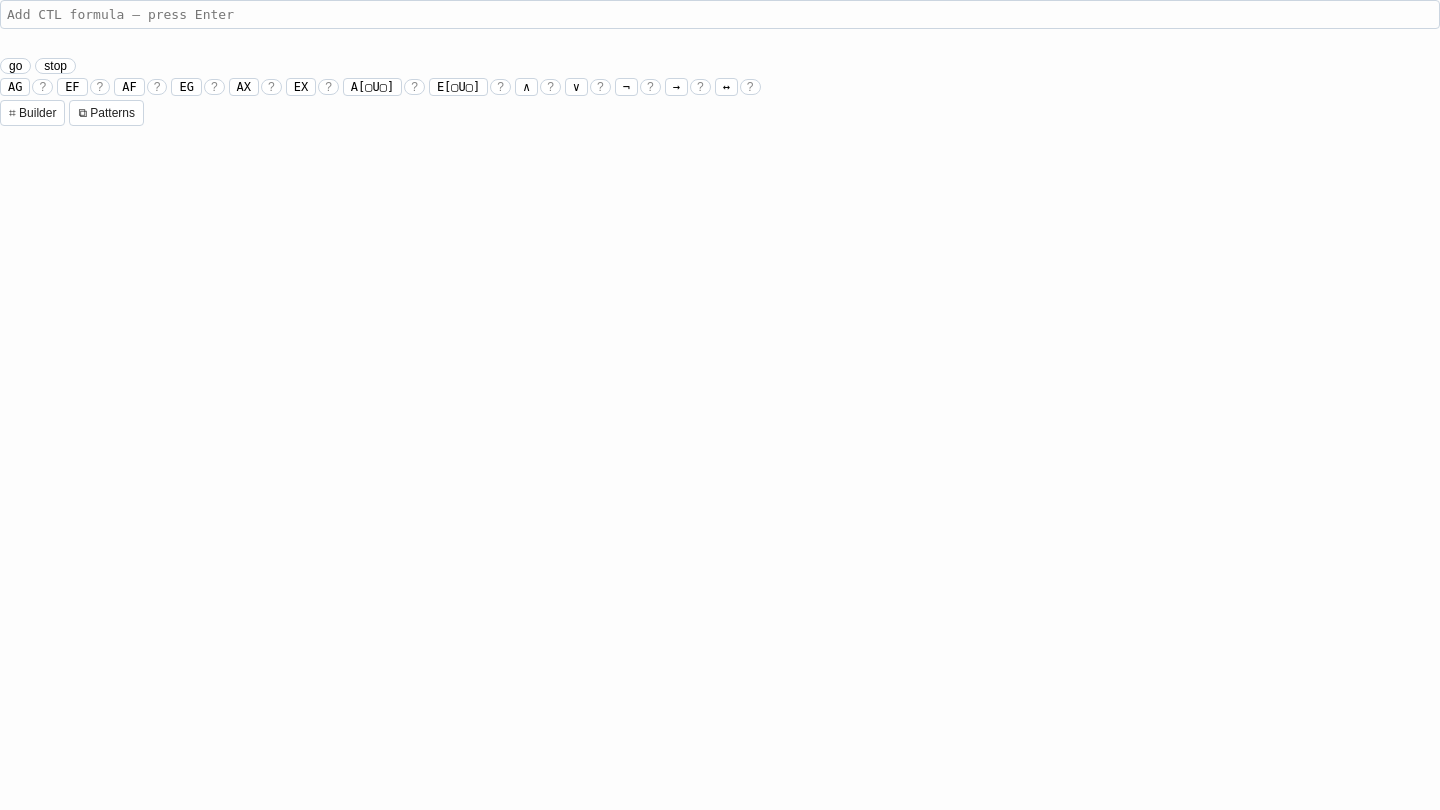
Test: PatternPicker in the composer › slot chips fill slots from model props and the preview updates
Click the button "⧉ Patterns".
click(107, 113)  # box [70,100,144,126]
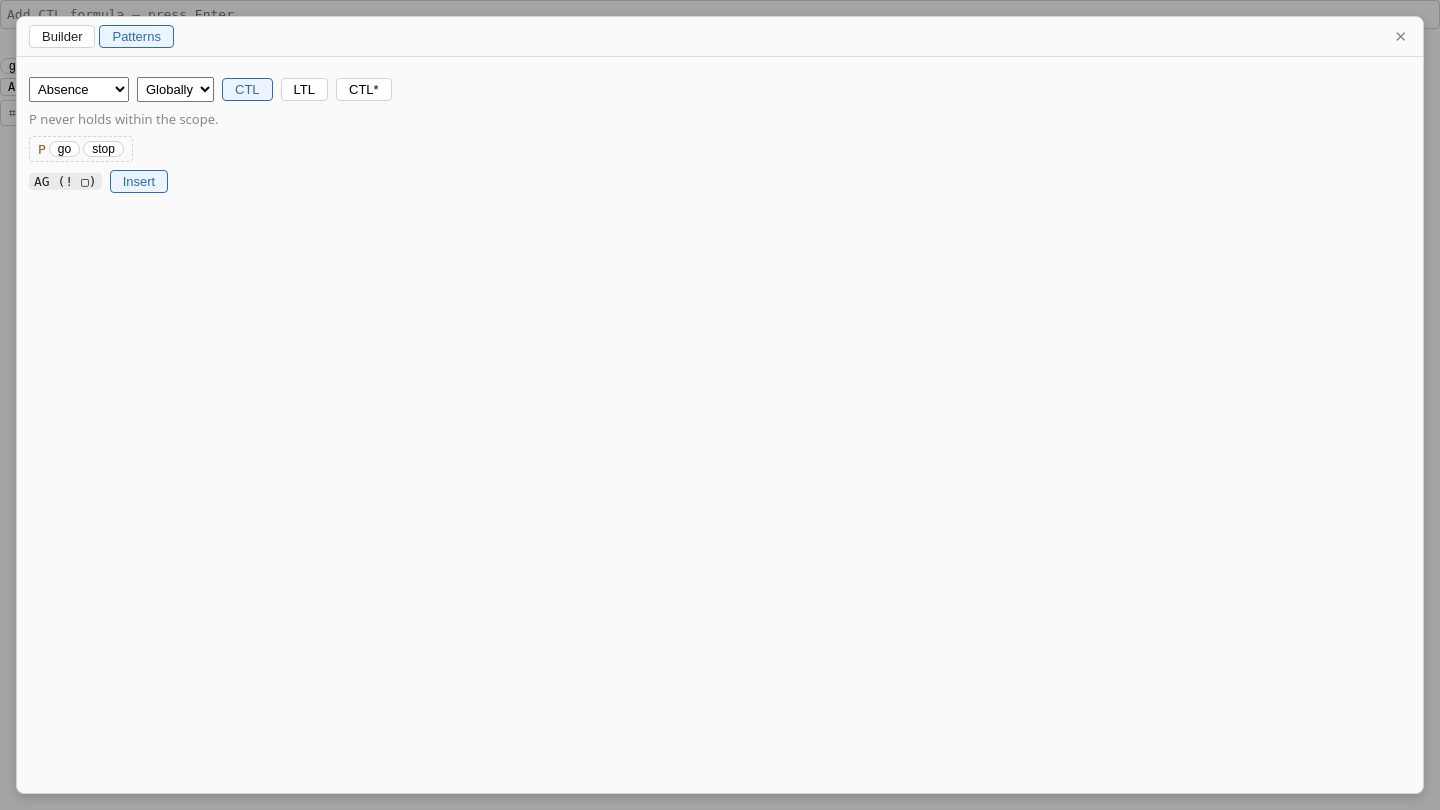
Select "Response" in the dropdown named "Pattern" at {"x": 79, "y": 90}, box [29,77,129,102]
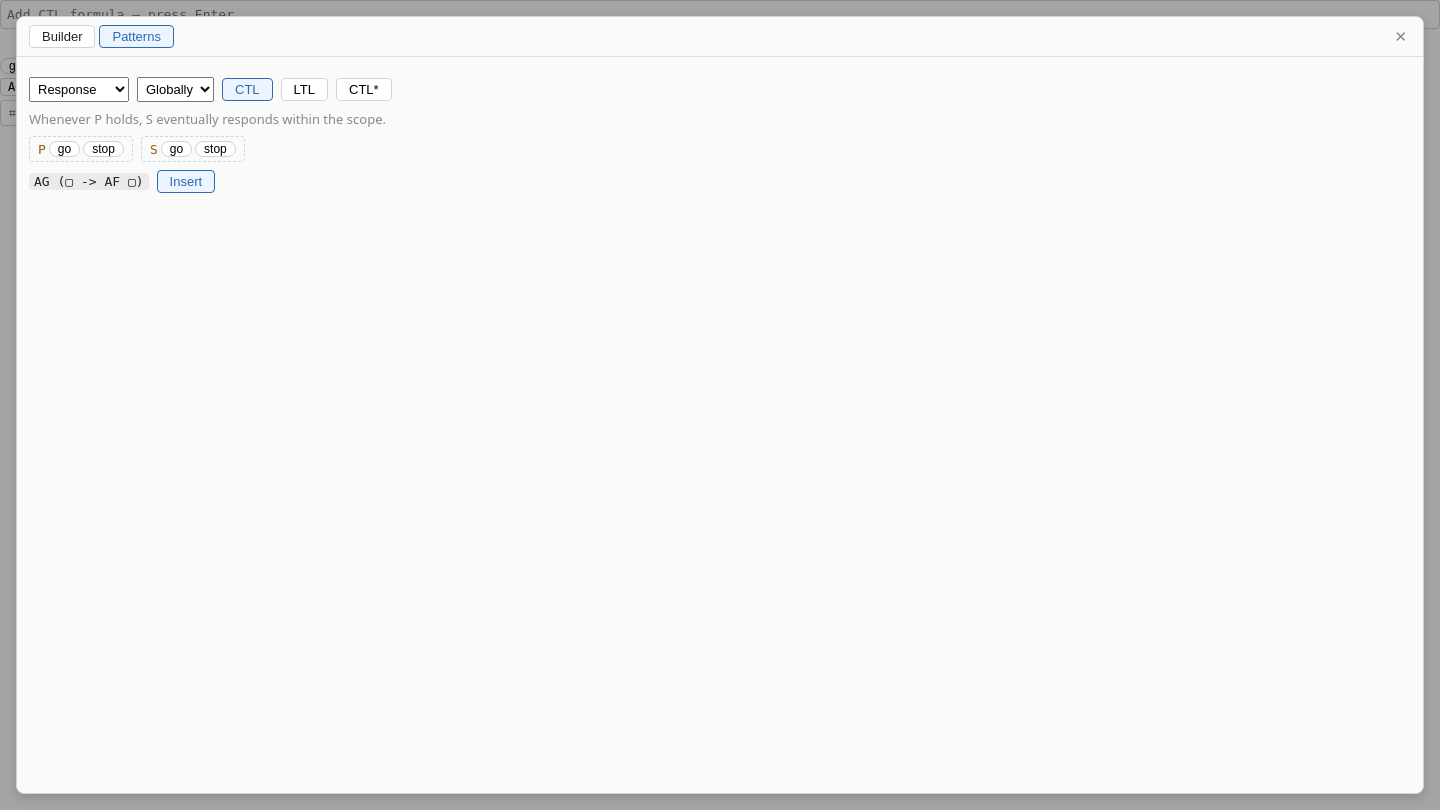
Result: the element showing "P go stop" is shown at [29,136,133,162]
Result: the element showing "S go stop" is shown at [141,136,245,162]
Click the 1st button "go".
click(64, 149)  # box [49,141,80,157]
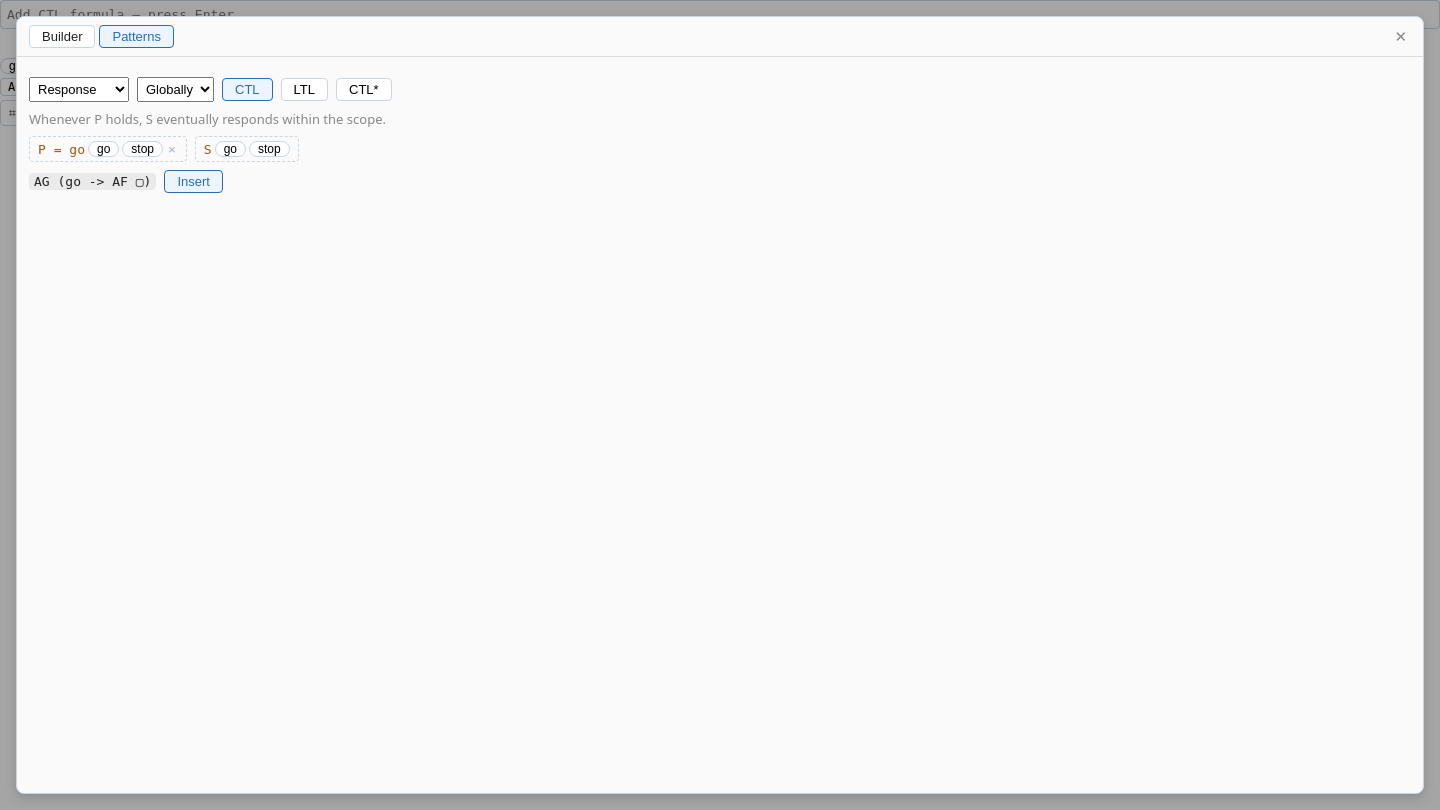
Result: the text "P = go" is shown at [38,142,85,156]
Result: the text "AG (go -> AF ▢)" is shown at [29,173,156,190]
